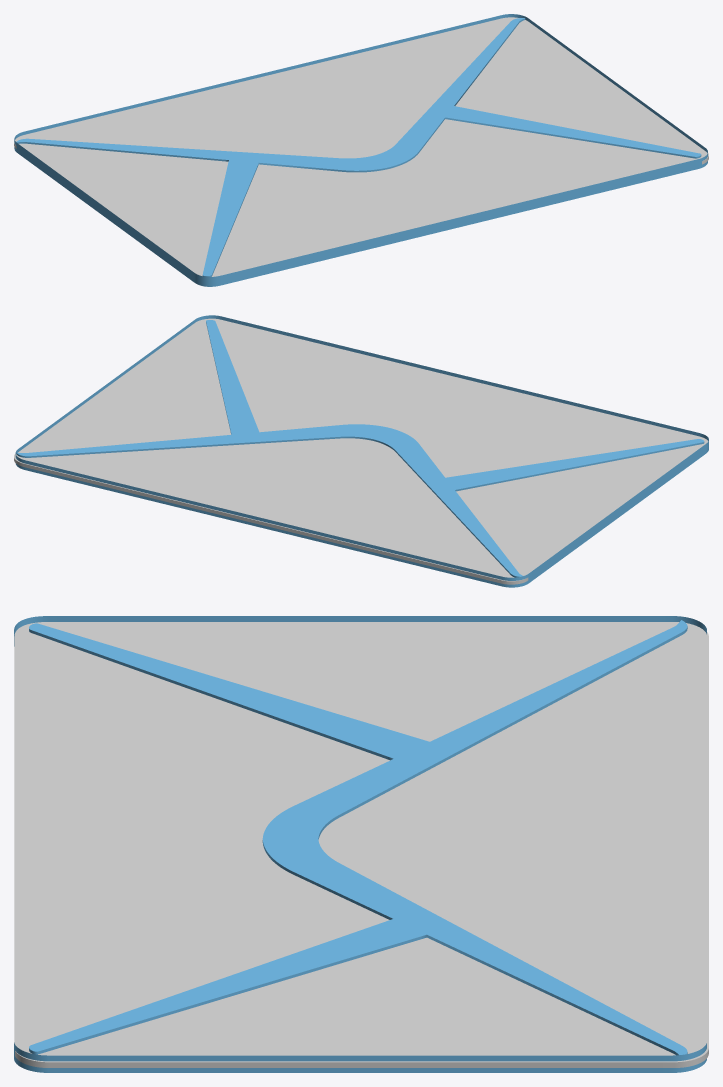
The model's file is emoji_u2709.glb.
3 renders of one model, top to bottom at view 1: azimuth 30°, elevation 25°; view 2: azimuth 150°, elevation 25°; view 3: azimuth 270°, elevation 25°, orthographic. The views are drawn at different scales.
Parts seen in each view (by area): view 1: emoji_u2709; view 2: emoji_u2709; view 3: emoji_u2709.
Boxes of the visible parts, box(x1,y1,x2,y2) form: emoji_u2709: box(14, 14, 708, 286); emoji_u2709: box(14, 315, 708, 587); emoji_u2709: box(14, 616, 708, 1072).
Size of the model in its own units: 0.0324 by 0.0006 by 0.0216.
